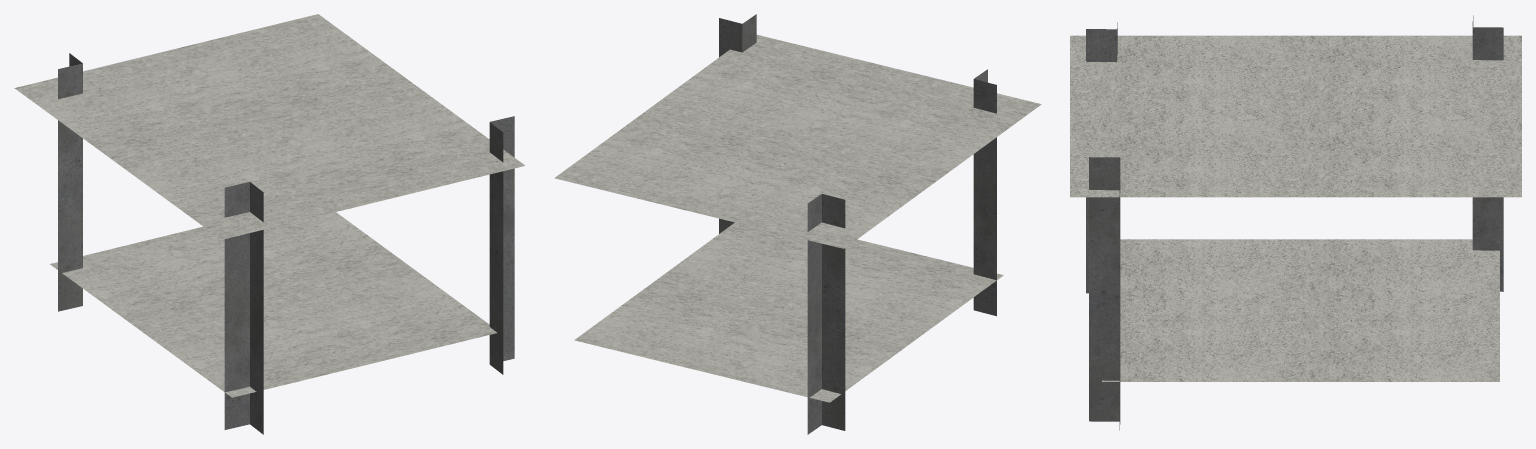
The model's file is concrete_037.fbx.
3 renders of one model, left to right at view 1: azimuth 30°, elevation 25°; view 2: azimuth 150°, elevation 25°; view 3: azimuth 270°, elevation 25°, orthographic. The views are drawn at different scales.
Visible parts, largest first — view 1: Quad__7_; view 2: Quad__7_; view 3: Quad__7_.
Boxes of the visible parts, bbox=[...] form: Quad__7_: bbox=[14, 14, 525, 434]; Quad__7_: bbox=[554, 14, 1041, 434]; Quad__7_: bbox=[1070, 15, 1521, 430].
Size of the model in its own units: 9.54 by 7 by 10.85.
2 materials, 2 textured.
